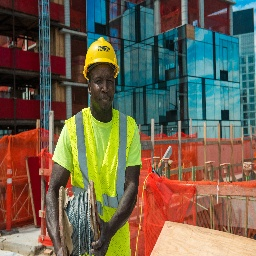helmet: (81, 36, 123, 84)
person: (45, 28, 144, 253)
vest: (64, 103, 136, 250)
